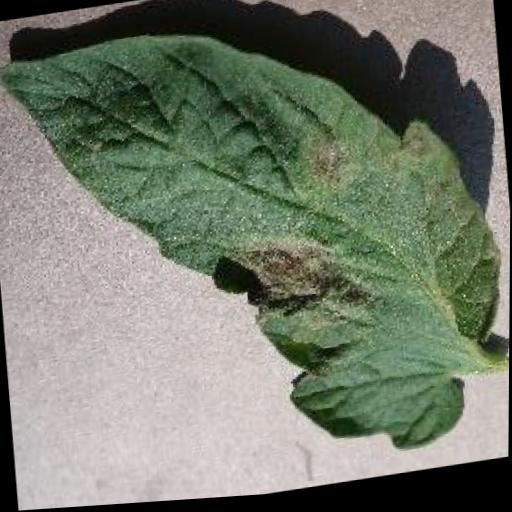Late Blight: (0, 0, 512, 509)
